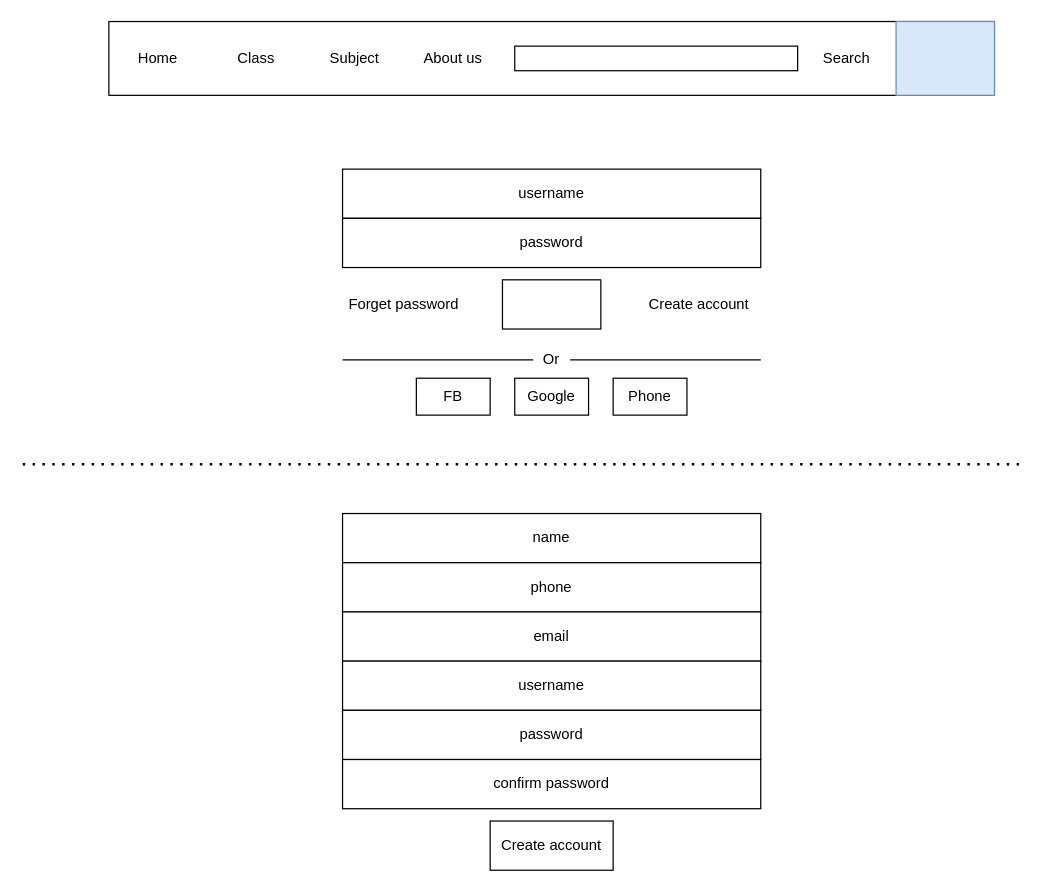
The diagram is 1042 pixels wide and 892 high, and some of its shapes have lost their labels. The shapes that lost their labels are listed below. From the top down, each one's centre as x and y in pixels, then its label:
At (944,57): "Log in".
At (551,304): "Login".
